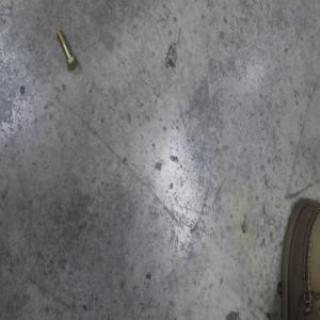Bolttrack_idkeyframe: (56, 27, 78, 70)
